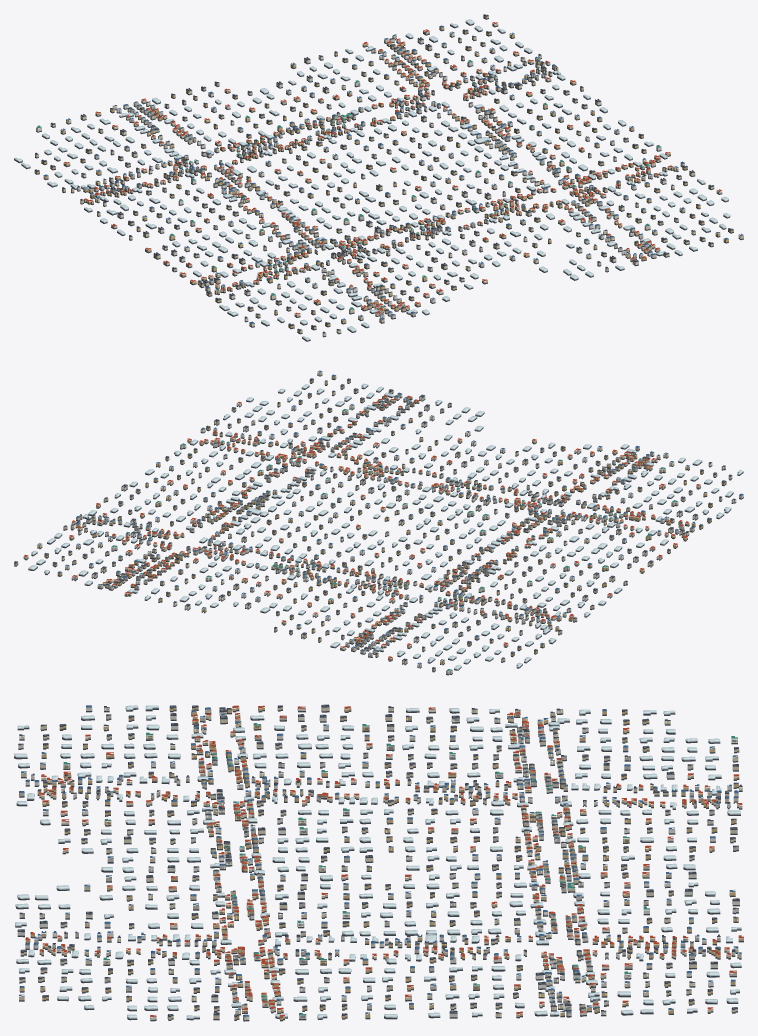
Rendered from osm_buildings_T_W05_N04.glb.
3 views of the same model, one above another, from view 1: azimuth 30°, elevation 25°; view 2: azimuth 150°, elevation 25°; view 3: azimuth 270°, elevation 25° (orthographic). The views are drawn at different scales.
Parts seen in each view (by area): view 1: OSM_T_W05_N04_foundation, OSM_T_W05_N04_greenhouse_blend, OSM_T_W05_N04_wall_cream_stucco, OSM_T_W05_N04_wall_french_ochre, OSM_T_W05_N04_roof_mansard_slate, OSM_T_W05_N04_wall_warm_white, OSM_T_W05_N04_roof_terracotta, OSM_T_W05_N04_wall_pastel_sand, OSM_T_W05_N04_roof_alpine_blue, OSM_T_W05_N04_roof_mansard_deck, OSM_T_W05_N04_balcony_railing, OSM_T_W05_N04_roof_mint_metal; view 2: OSM_T_W05_N04_foundation, OSM_T_W05_N04_greenhouse_blend, OSM_T_W05_N04_wall_cream_stucco, OSM_T_W05_N04_wall_french_ochre, OSM_T_W05_N04_roof_mansard_slate, OSM_T_W05_N04_wall_warm_white, OSM_T_W05_N04_roof_terracotta, OSM_T_W05_N04_roof_alpine_blue, OSM_T_W05_N04_wall_pastel_sand, OSM_T_W05_N04_roof_mansard_deck, OSM_T_W05_N04_roof_mint_metal; view 3: OSM_T_W05_N04_foundation, OSM_T_W05_N04_greenhouse_blend, OSM_T_W05_N04_wall_cream_stucco, OSM_T_W05_N04_wall_french_ochre, OSM_T_W05_N04_roof_mansard_slate, OSM_T_W05_N04_roof_terracotta, OSM_T_W05_N04_wall_warm_white, OSM_T_W05_N04_roof_alpine_blue, OSM_T_W05_N04_wall_pastel_sand, OSM_T_W05_N04_roof_mansard_deck, OSM_T_W05_N04_roof_mint_metal, OSM_T_W05_N04_balcony_railing.
Boxes of the visible parts, box(x1,y1,x2,y2) form: OSM_T_W05_N04_foundation: box(14, 17, 743, 341); OSM_T_W05_N04_greenhouse_blend: box(14, 19, 730, 340); OSM_T_W05_N04_wall_cream_stucco: box(35, 15, 743, 333); OSM_T_W05_N04_wall_french_ochre: box(34, 26, 733, 327); OSM_T_W05_N04_roof_mansard_slate: box(35, 14, 733, 333); OSM_T_W05_N04_wall_warm_white: box(36, 33, 722, 336); OSM_T_W05_N04_roof_terracotta: box(64, 22, 721, 314); OSM_T_W05_N04_wall_pastel_sand: box(93, 30, 685, 317); OSM_T_W05_N04_roof_alpine_blue: box(44, 25, 743, 323); OSM_T_W05_N04_roof_mansard_deck: box(35, 14, 732, 326); OSM_T_W05_N04_balcony_railing: box(42, 17, 729, 327); OSM_T_W05_N04_roof_mint_metal: box(36, 60, 660, 309); OSM_T_W05_N04_foundation: box(14, 374, 743, 675); OSM_T_W05_N04_greenhouse_blend: box(28, 383, 743, 669); OSM_T_W05_N04_wall_cream_stucco: box(14, 372, 732, 671); OSM_T_W05_N04_wall_french_ochre: box(37, 375, 726, 664); OSM_T_W05_N04_roof_mansard_slate: box(14, 378, 735, 669); OSM_T_W05_N04_wall_warm_white: box(63, 394, 743, 674); OSM_T_W05_N04_roof_terracotta: box(24, 395, 700, 658); OSM_T_W05_N04_roof_alpine_blue: box(37, 370, 743, 664); OSM_T_W05_N04_wall_pastel_sand: box(71, 398, 722, 650); OSM_T_W05_N04_roof_mansard_deck: box(15, 378, 725, 668); OSM_T_W05_N04_roof_mint_metal: box(111, 409, 677, 671); OSM_T_W05_N04_foundation: box(14, 708, 743, 1021); OSM_T_W05_N04_greenhouse_blend: box(14, 705, 741, 1018); OSM_T_W05_N04_wall_cream_stucco: box(19, 706, 742, 1019); OSM_T_W05_N04_wall_french_ochre: box(19, 707, 743, 1019); OSM_T_W05_N04_roof_mansard_slate: box(17, 704, 742, 1017); OSM_T_W05_N04_roof_terracotta: box(25, 705, 743, 1017); OSM_T_W05_N04_wall_warm_white: box(17, 707, 742, 1020); OSM_T_W05_N04_roof_alpine_blue: box(19, 705, 741, 1016); OSM_T_W05_N04_wall_pastel_sand: box(19, 714, 738, 1016); OSM_T_W05_N04_roof_mansard_deck: box(18, 704, 738, 1015); OSM_T_W05_N04_roof_mint_metal: box(63, 723, 737, 1015); OSM_T_W05_N04_balcony_railing: box(46, 707, 738, 1017).
Bounding box in the file's own units: 1879 × 39.2 × 1895.
